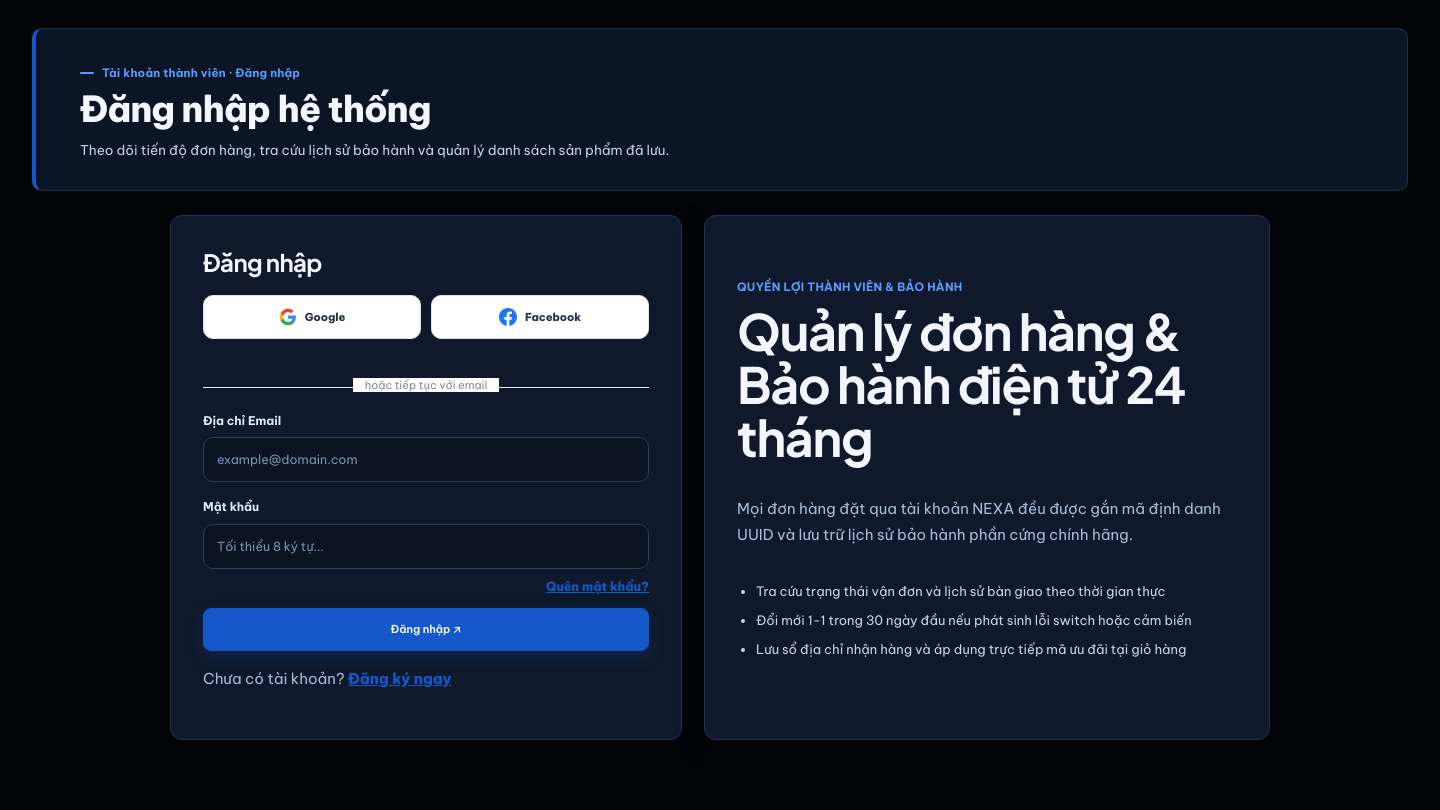
Test: Facebook login without email prompts for Gmail and verifies 6-digit OTP
Later steps or results of the test are not shown.
Step 1. Click the button "Facebook" → (540, 317), box [431,295,649,339]
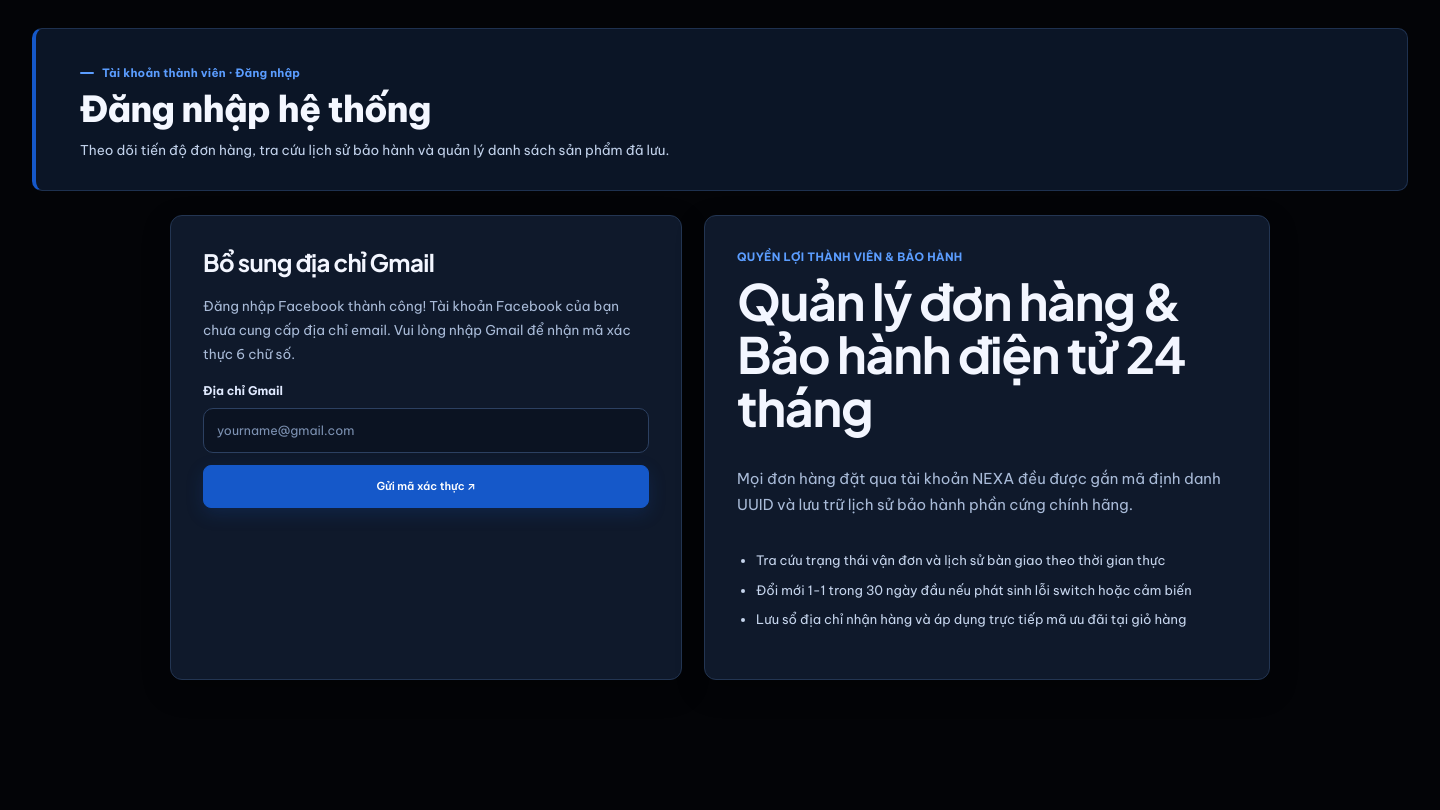
Expected: the heading "Bổ sung địa chỉ Gmail" is shown, [203,247,434,277]
Step 2. Type "minh.fb@gmail.com" into the field labelled "Địa chỉ Gmail" → (426, 430), box [203,408,649,453]
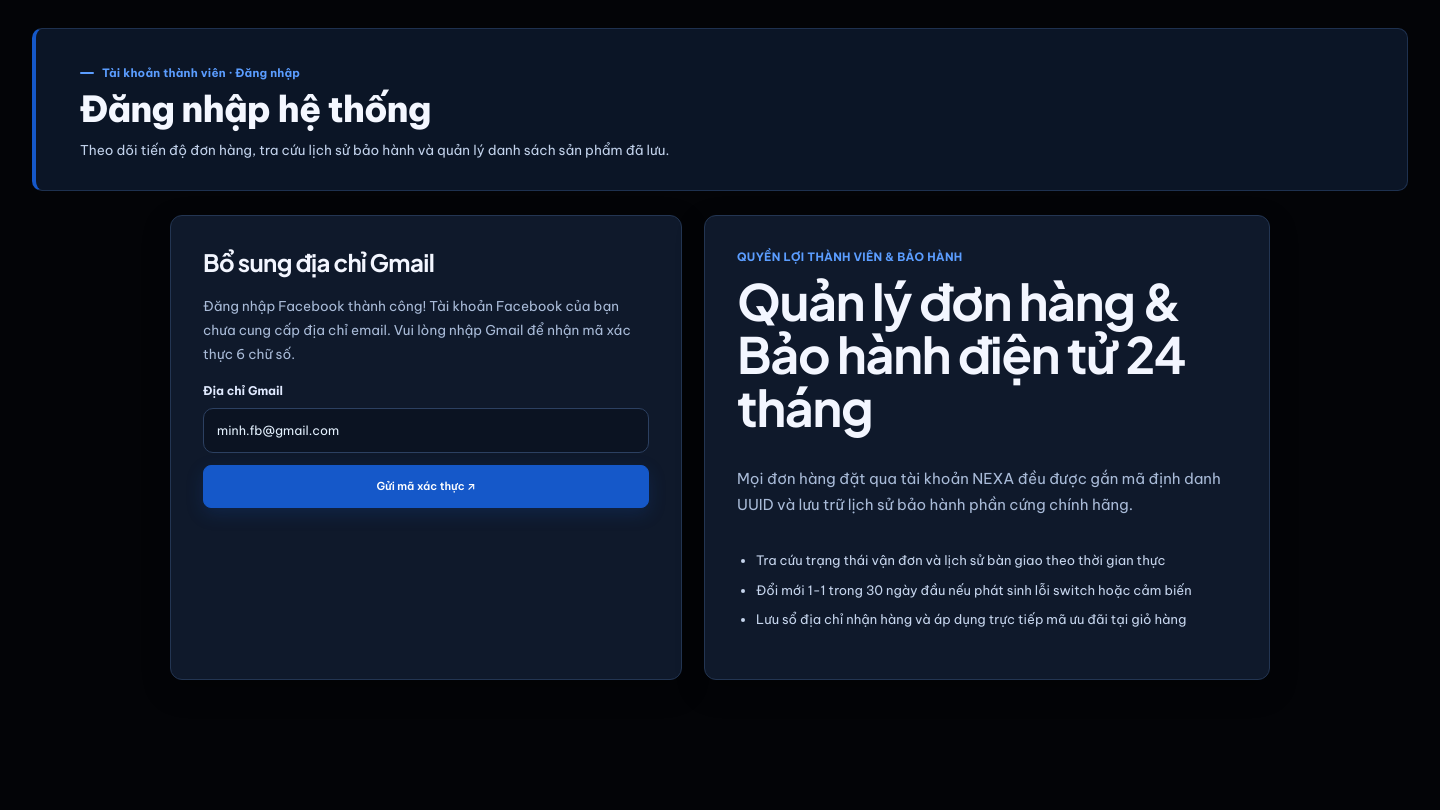
Step 3. Click the button "Gửi mã xác thực ↗" → (426, 486), box [203,465,649,508]
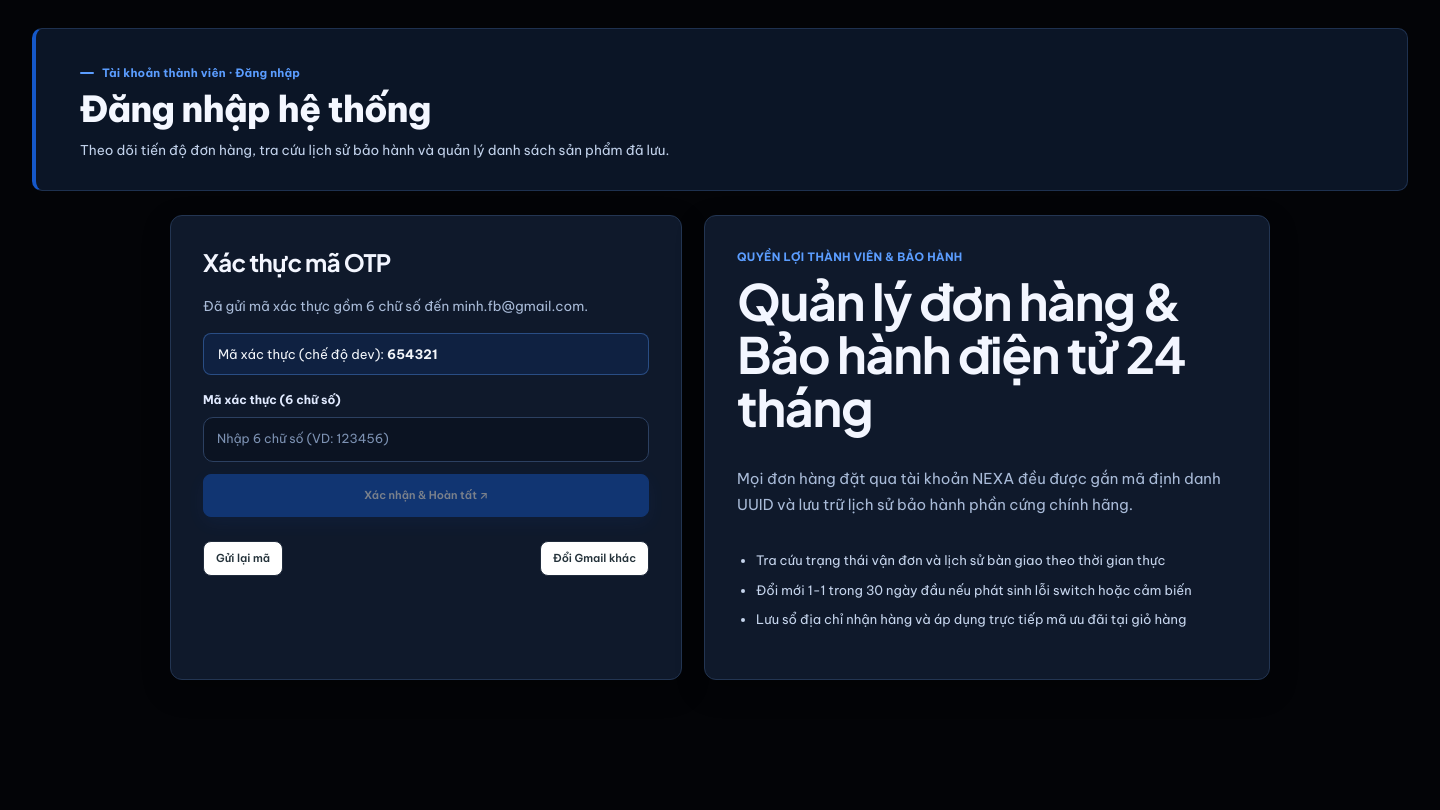
Expected: the heading "Xác thực mã OTP" is shown, [203,247,391,277]
